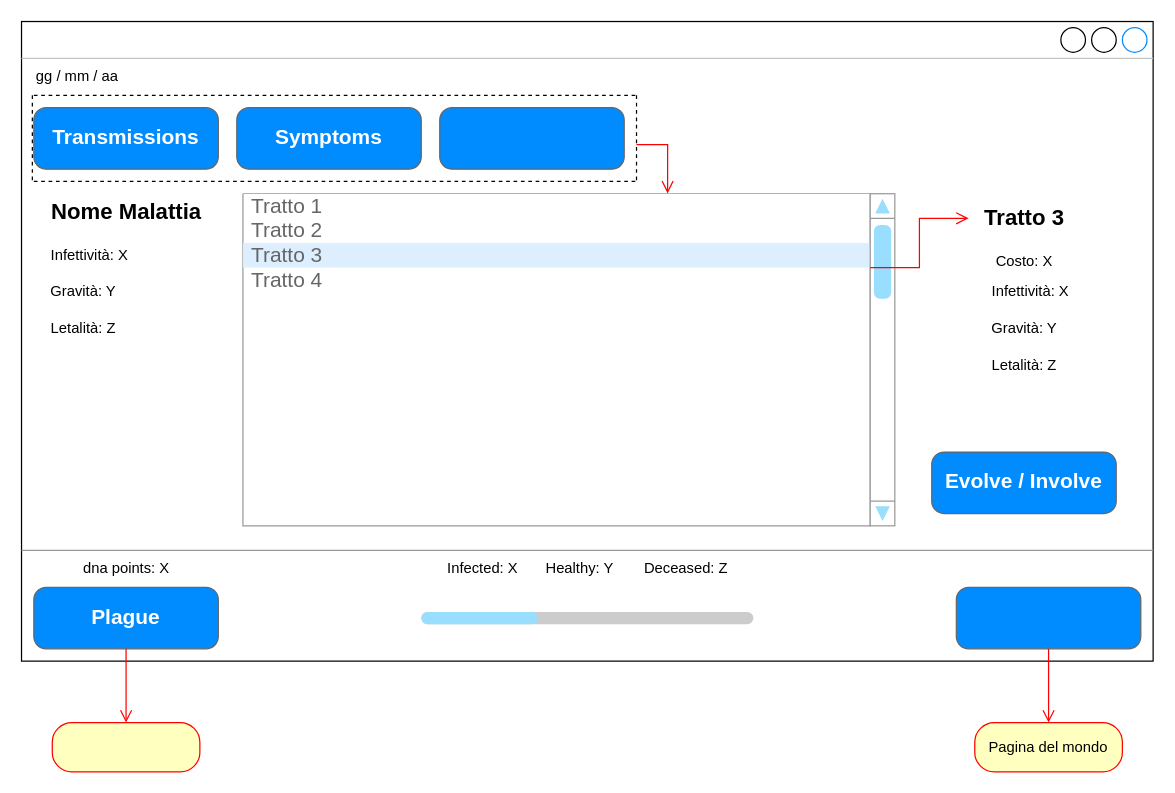
Image size: 1175x793. Some labels were removed from this diagram. The shapes that lost their labels are listed below. From the top down, each one's centre as x and y in pixels, then its label:
At (531,137): "Abilities".
At (1048,617): "World".
At (125,746): "Pagina della malattia".
